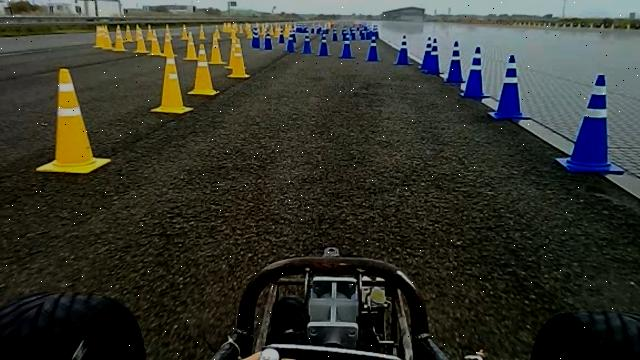blue cone: (555, 74, 625, 174), (488, 55, 531, 120), (460, 46, 490, 98), (444, 40, 465, 83), (393, 34, 413, 65), (425, 38, 442, 74), (336, 30, 356, 60), (418, 36, 435, 71), (364, 32, 381, 63)
yellow cone: (36, 66, 111, 174), (148, 41, 194, 115), (186, 42, 221, 97), (227, 35, 250, 80)
